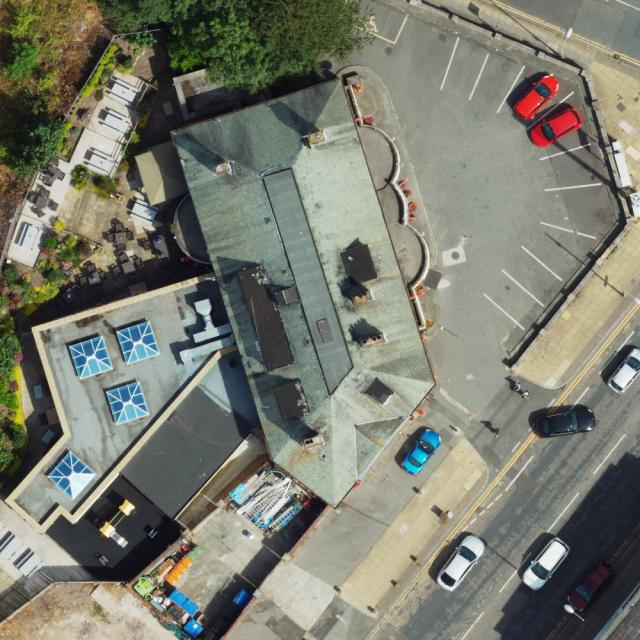roof: (9, 78, 438, 533)
skylight: (41, 448, 100, 502), (113, 317, 167, 368), (100, 378, 152, 430), (66, 332, 113, 380)
